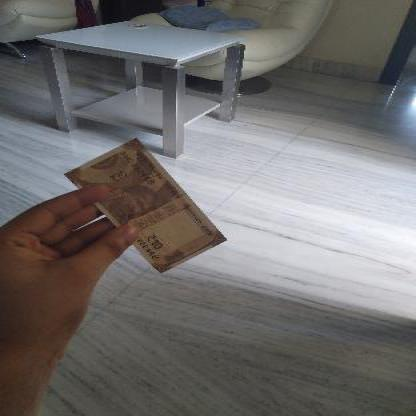New10Front: (64, 144, 227, 268)
